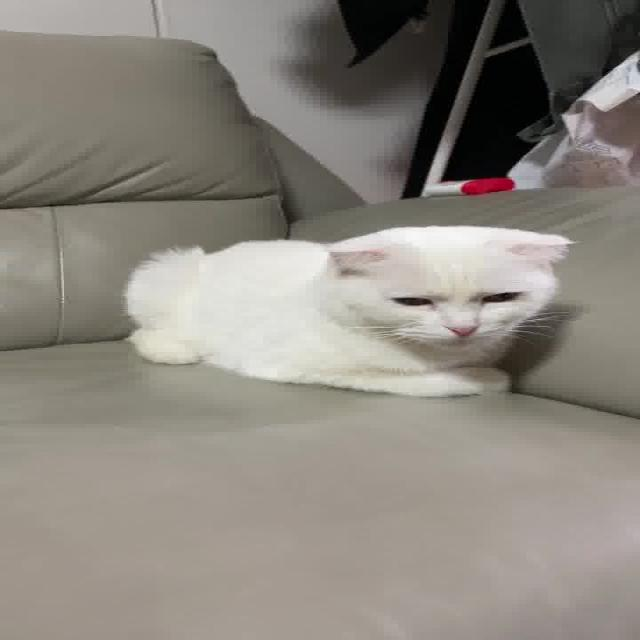cat: (116, 216, 580, 404)
